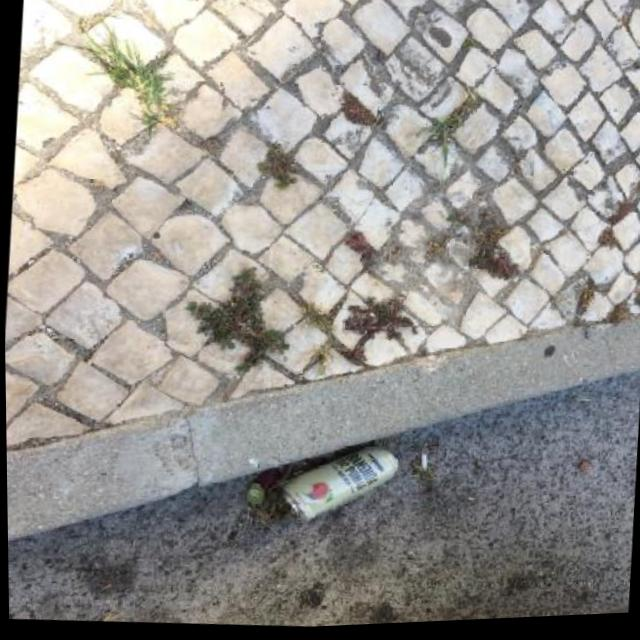metal: (274, 436, 401, 529)
